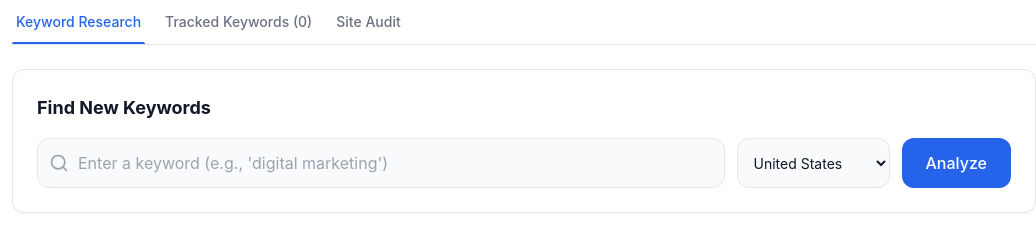
Scenario: SEOTools › shows site audit URL input when tab selected
Click the button "Site Audit" at (369, 28), box 332,12 -> 405,44
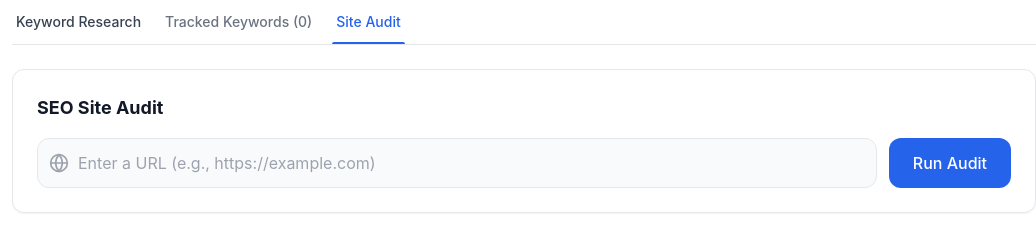
Expected: the field with placeholder "Enter a URL (e.g., https://example.com)" is shown, 37,138 -> 877,188
Expected: the button "Run Audit" is shown, 889,138 -> 1011,188
